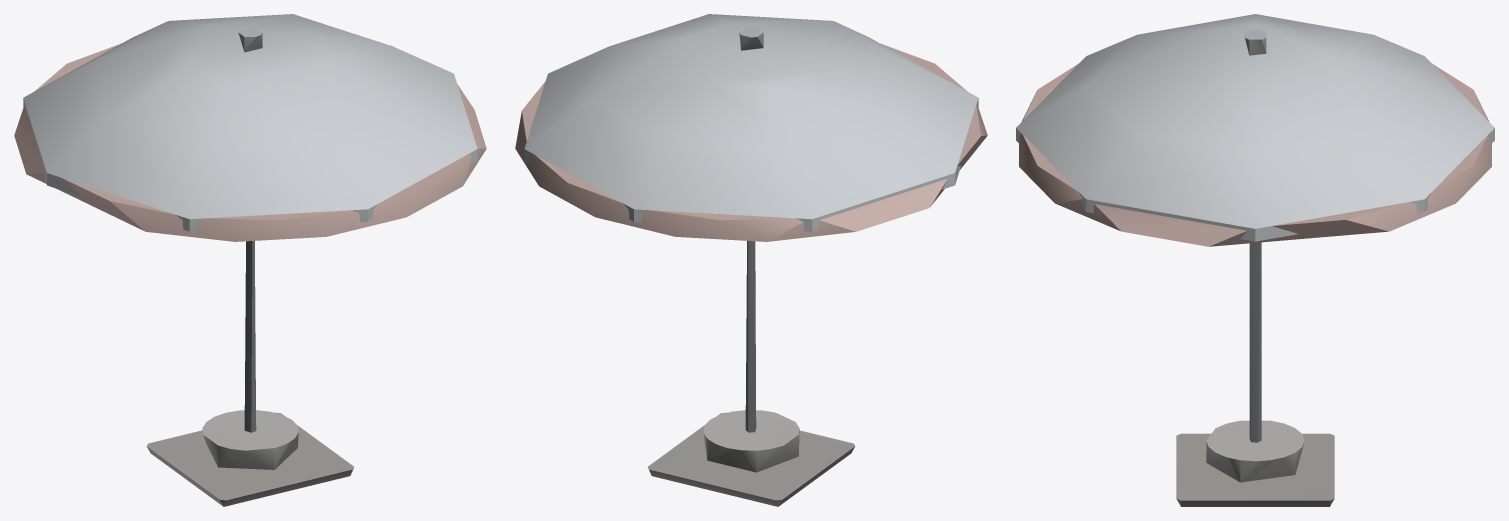
The model's file is parasol.lod2.glb.
The picture shows the model from 3 angles, left to right: view 1: azimuth 30°, elevation 25°; view 2: azimuth 150°, elevation 25°; view 3: azimuth 270°, elevation 25°; orthographic projection.
Bounding box in the file's own units: 2.72 × 2.76 × 2.72.
